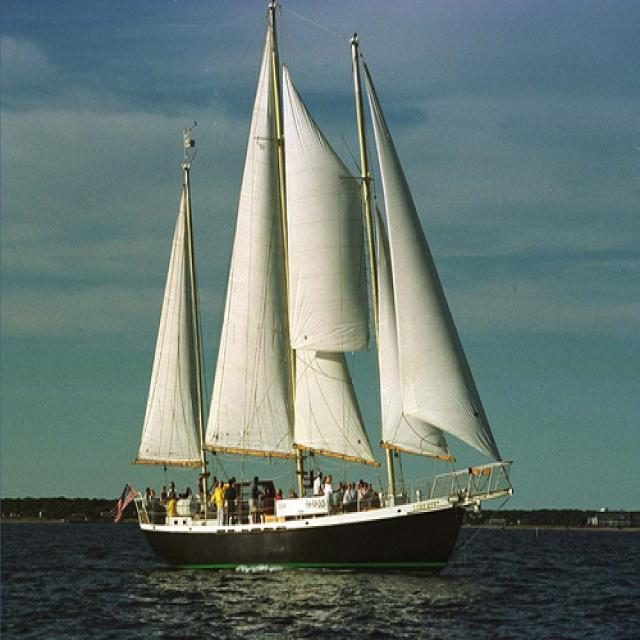Ship: (116, 5, 508, 577)
